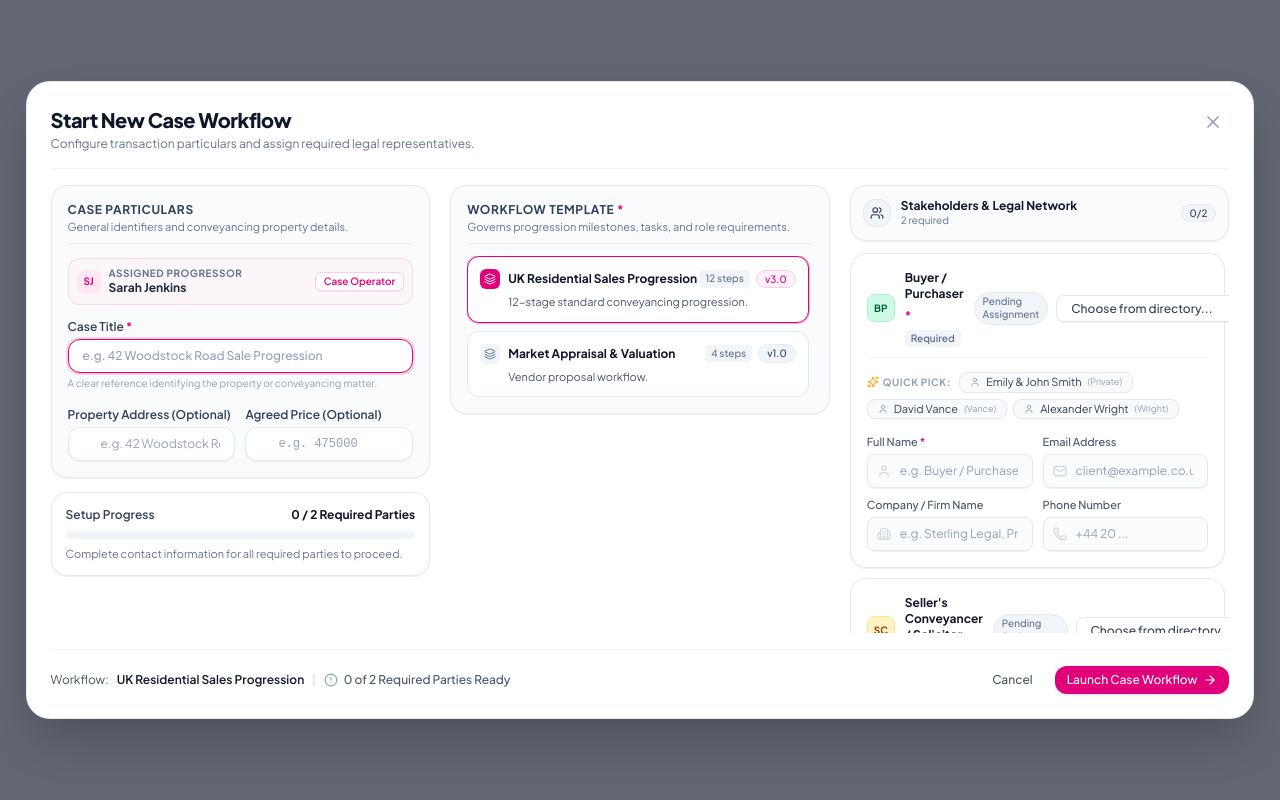
Test: CreateCaseModal › validates empty title before submitting
Check: the text "12-stage standard conveyancing progression." is shown, box 508,295 -> 748,308
What coordinates should you click on to do the following:
click the button "Launch Case Workflow"
I would click on:
 (1142, 680)
Its box is 1055,666 -> 1229,694.
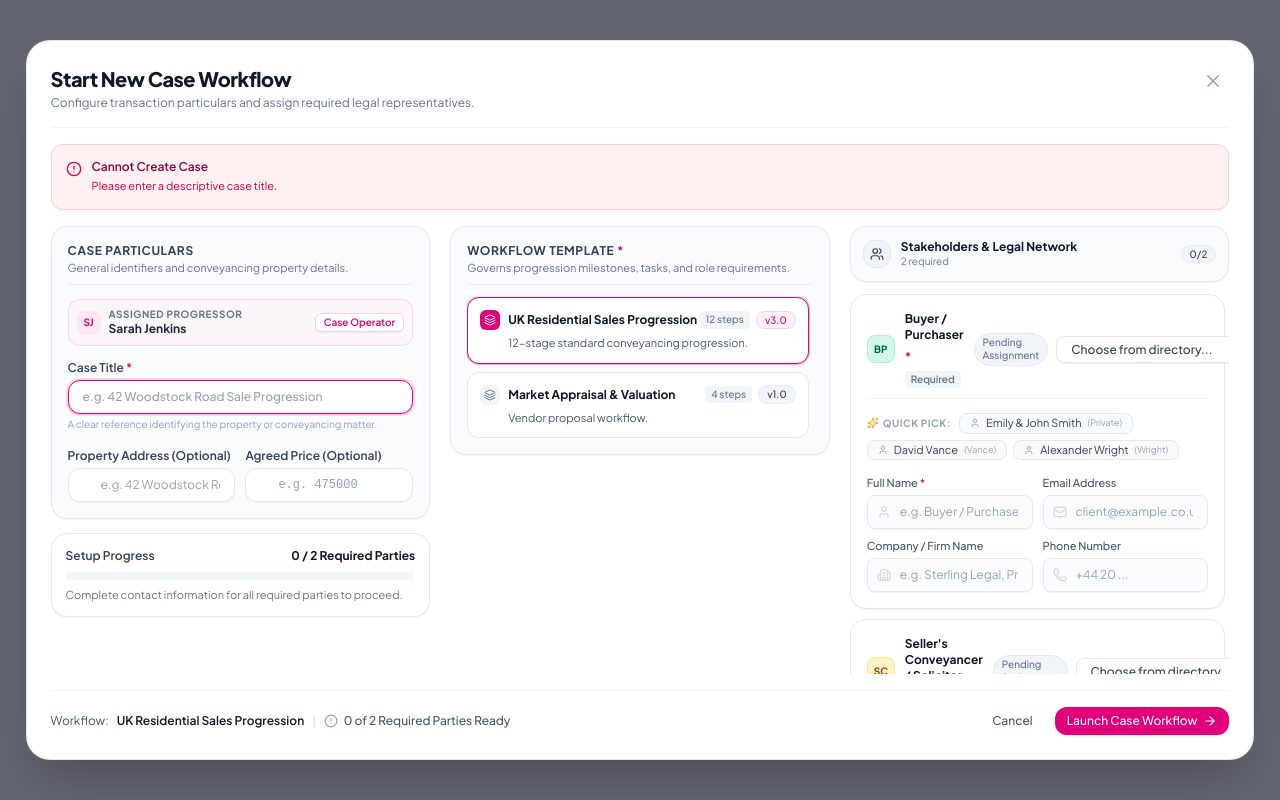
Check: the text "Please enter a descriptive case title." is shown, box 92,179 -> 277,192
